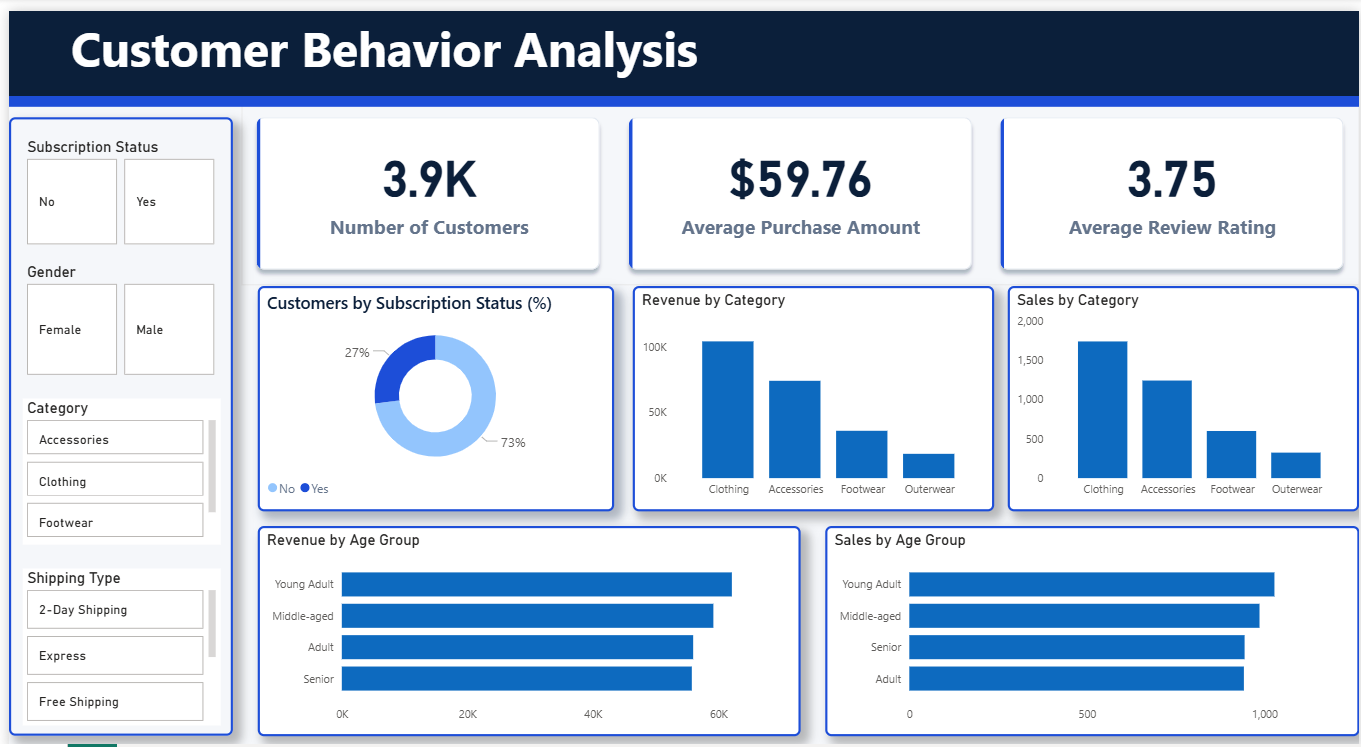

This screenshot's page, from the dashboard's own definition file:
{"tool":"powerbi","page":{"name":"Page 1","canvas":[1500,820],"ordinal":0},"visuals":[{"type":"cardVisual","fields":{"Data":["public customer.Number of Customers","public customer.Average Purchase Amount","public customer.Average Review Rating"]},"box":[258.3,101.7,1242.1,203.4],"z":0},{"type":"shape","box":[0,0,1500.4,94.8],"z":1000},{"type":"shape","box":[0,94.8,1500.4,12.4],"z":2000},{"type":"textbox","box":[63.2,0,1346.5,107.2],"z":3000},{"type":"donutChart","title":"Customers by Subscription Status (%)","fields":{"Category":["public customer.subscription_status"],"Y":["CountNonNull(public customer.customer_id)"]},"box":[276.2,305,395.7,250.1],"z":4000},{"type":"clusteredColumnChart","title":"Revenue by Category","fields":{"Category":["public customer.category"],"Y":["Sum(public customer.purchase_amount)"]},"box":[692.5,305,401.2,250.1],"z":5000},{"type":"clusteredColumnChart","title":"Sales by Category","fields":{"Category":["public customer.category"],"Y":["CountNonNull(public customer.customer_id)"]},"box":[1110.2,305,390.2,250.1],"z":6000},{"type":"shape","box":[0,118.2,248.7,687],"z":7000},{"type":"advancedSlicerVisual","fields":{"Values":["public customer.subscription_status"]},"box":[15.1,140.1,219.8,125],"z":8000},{"type":"advancedSlicerVisual","fields":{"Values":["public customer.gender"]},"box":[15.1,278.9,219.8,130.5],"z":9000},{"type":"advancedSlicerVisual","fields":{"Values":["public customer.category"]},"box":[15.1,430.1,219.8,162.1],"z":10000},{"type":"advancedSlicerVisual","fields":{"Values":["public customer.shipping_type"]},"box":[15.1,619.7,219.8,174.5],"z":11000},{"type":"clusteredBarChart","title":"Revenue by Age Group","fields":{"Y":["Sum(public customer.purchase_amount)"],"Category":["public customer.age_group"]},"box":[276.2,571.6,603.2,233.6],"z":12000},{"type":"clusteredBarChart","title":"Sales by Age Group","fields":{"Category":["public customer.age_group"],"Y":["CountNonNull(public customer.customer_id)"]},"box":[906.8,571.6,593.6,233.6],"z":13000}]}

Visuals, with their boxes in screenshot pixels (x1, y1, x2, y2), scaled from the page's 1500x820 canvas onto the 1361x747 screenshot:
cardVisual - public customer.Number of Customers x public customer.Average Purchase Amount: box(234, 93, 1360, 278)
shape: box(0, 0, 1360, 86)
shape: box(0, 86, 1360, 98)
textbox: box(57, 0, 1279, 98)
"Customers by Subscription Status (%)" donutChart: box(251, 278, 610, 506)
"Revenue by Category" clusteredColumnChart: box(628, 278, 992, 506)
"Sales by Category" clusteredColumnChart: box(1007, 278, 1360, 506)
shape: box(0, 108, 226, 734)
advancedSlicerVisual - public customer.subscription_status: box(14, 128, 213, 241)
advancedSlicerVisual - public customer.gender: box(14, 254, 213, 373)
advancedSlicerVisual - public customer.category: box(14, 392, 213, 539)
advancedSlicerVisual - public customer.shipping_type: box(14, 565, 213, 723)
"Revenue by Age Group" clusteredBarChart: box(251, 521, 798, 734)
"Sales by Age Group" clusteredBarChart: box(823, 521, 1360, 734)
